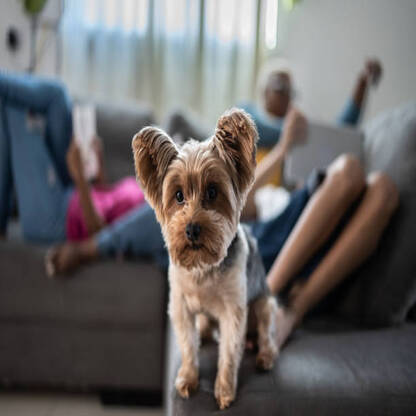yorkshire: (130, 106, 278, 407)
